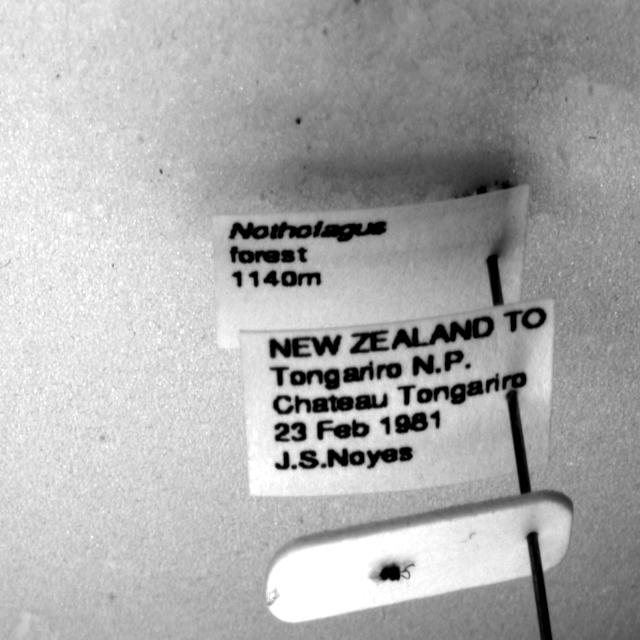typed_label: (241, 300, 554, 497), (214, 186, 529, 349)
